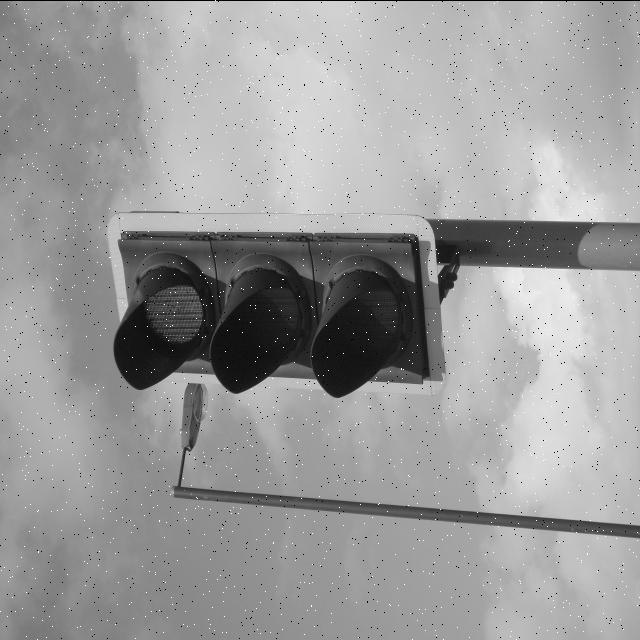red: (120, 230, 426, 390)
